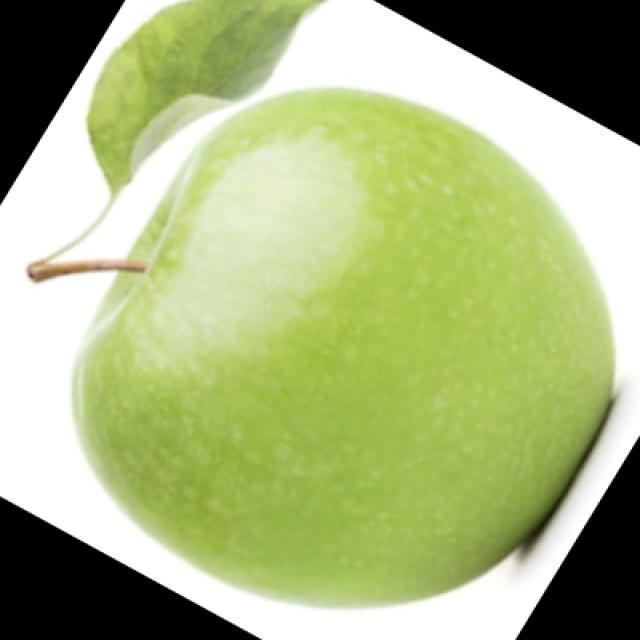Fresh Apple: (100, 93, 600, 640)
